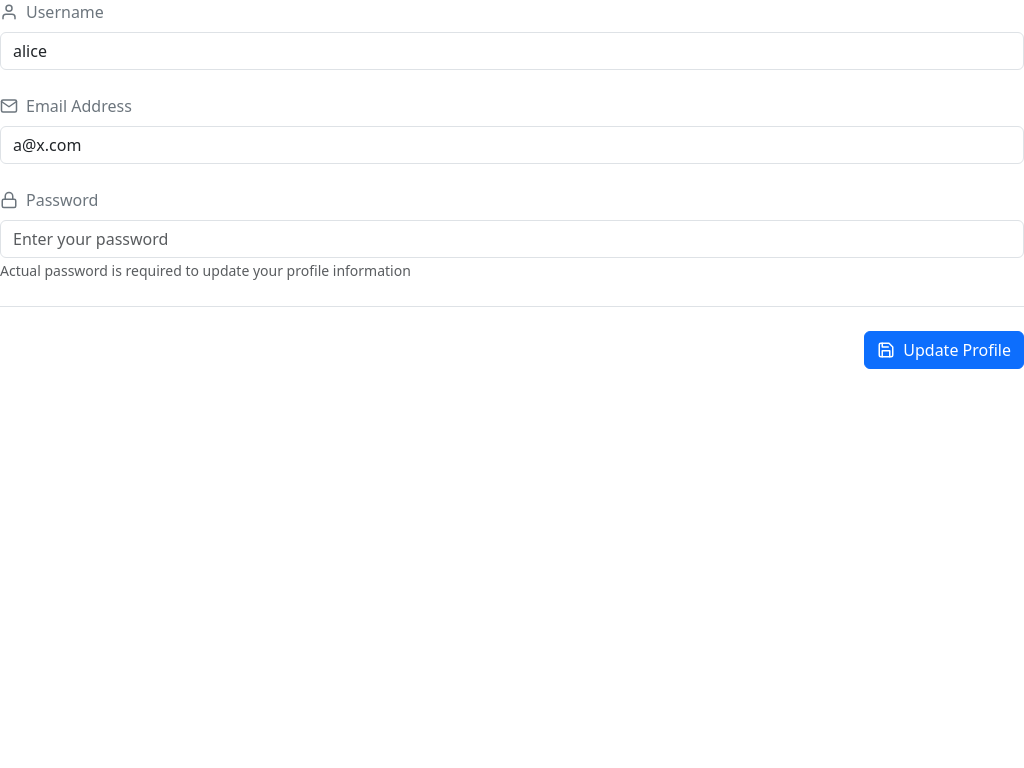
Test case: ProfileInfoForm › opens confirmation modal when username changes
Replace the text in the field labelled "Username" with "bob" at (512, 51), box [0,32,1023,70]
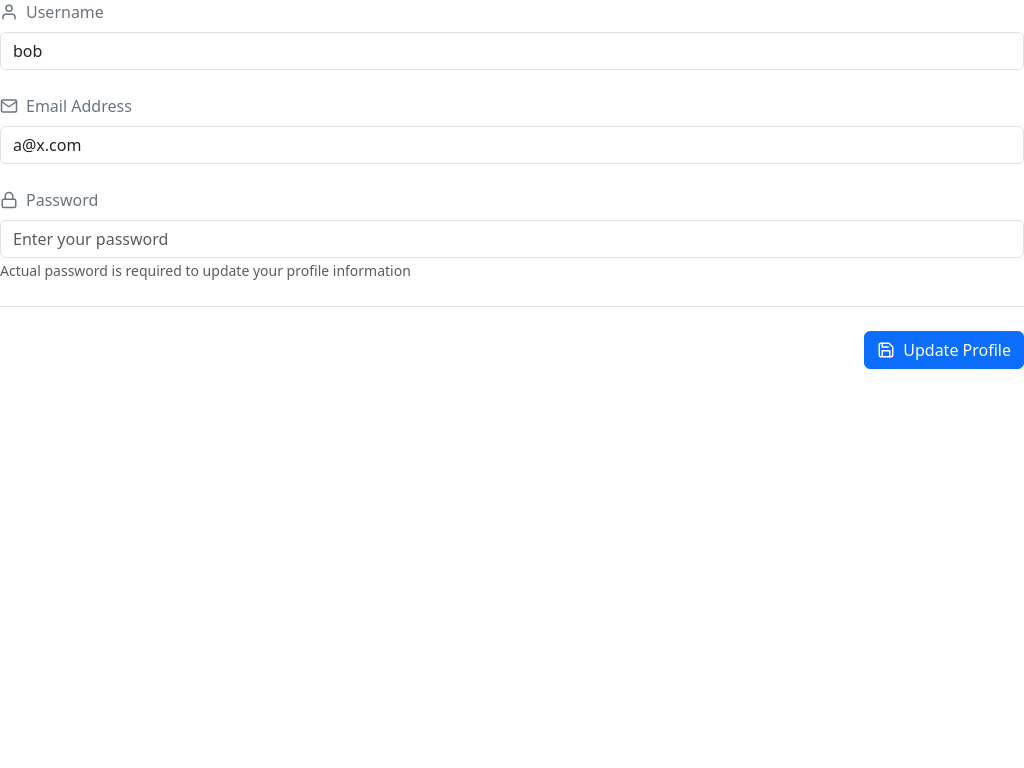
Type "secret" into the password field labelled "Password".
click(512, 239); type("secret")  # box [0,220,1023,258]
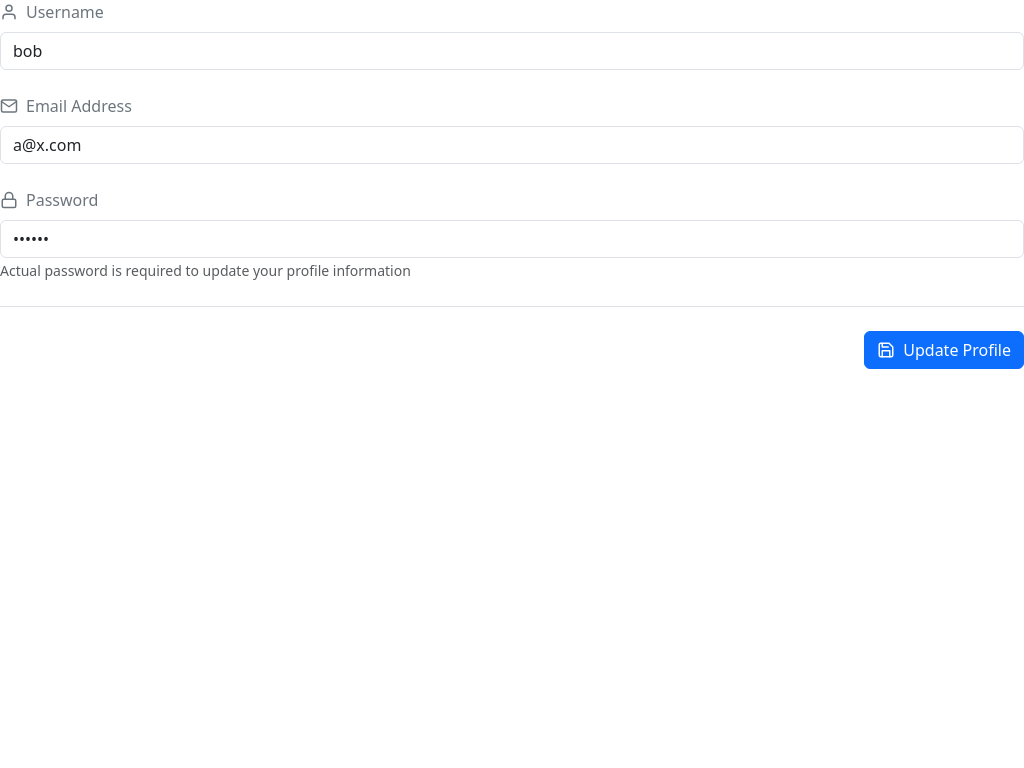
Click the button "Update Profile".
click(944, 350)  # box [864,331,1023,369]
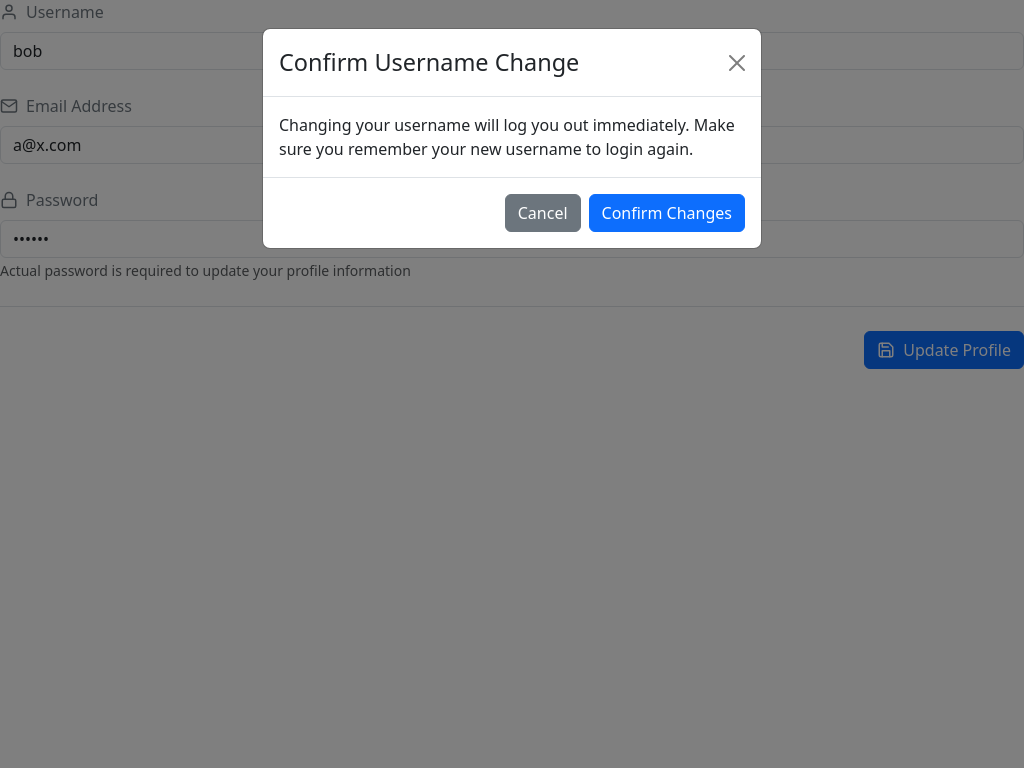
Result: the text "Confirm Username Change" is shown at [279,45,579,80]
Click the button "Cancel".
click(543, 213)  # box [505,194,581,232]
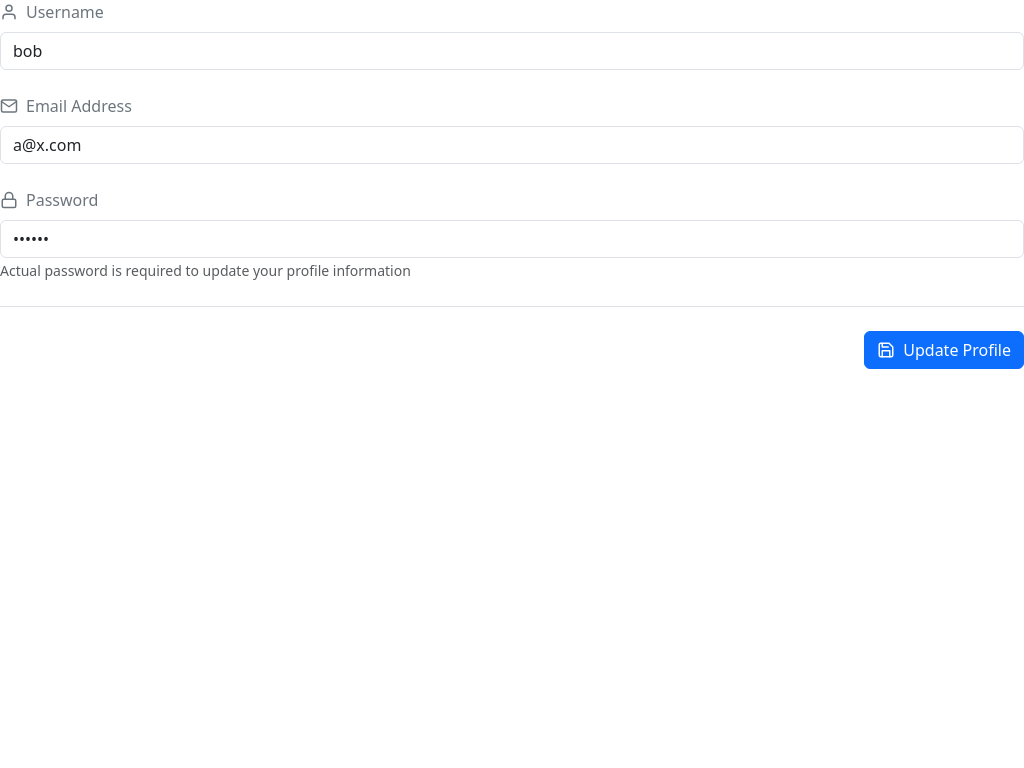
Result: the text "Confirm Username Change" is gone
